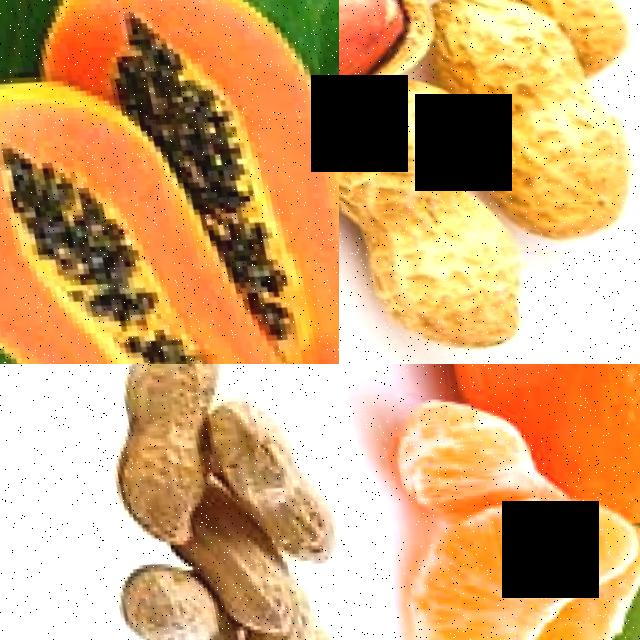orange: (480, 364, 640, 521)
pawpaw: (0, 51, 243, 364), (149, 0, 339, 364)
peanuts: (339, 65, 531, 364), (473, 46, 640, 243), (200, 385, 339, 564), (118, 549, 226, 640), (206, 536, 304, 633), (339, 0, 411, 95), (101, 364, 230, 410)
